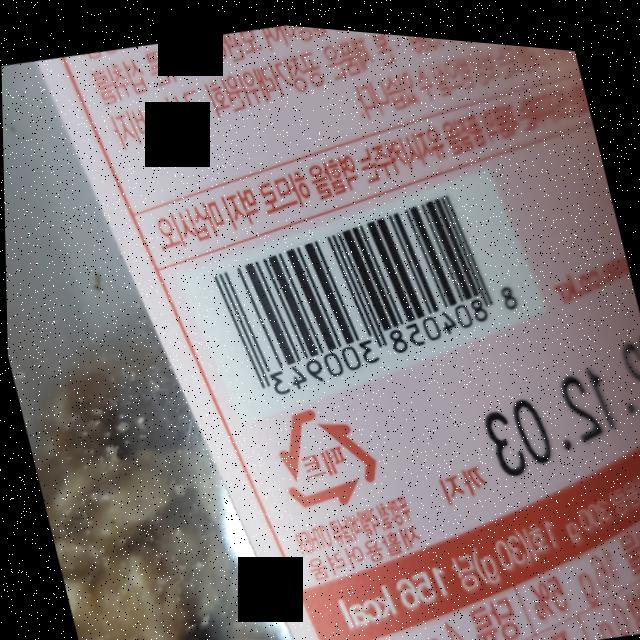PET: (263, 384, 387, 515)
